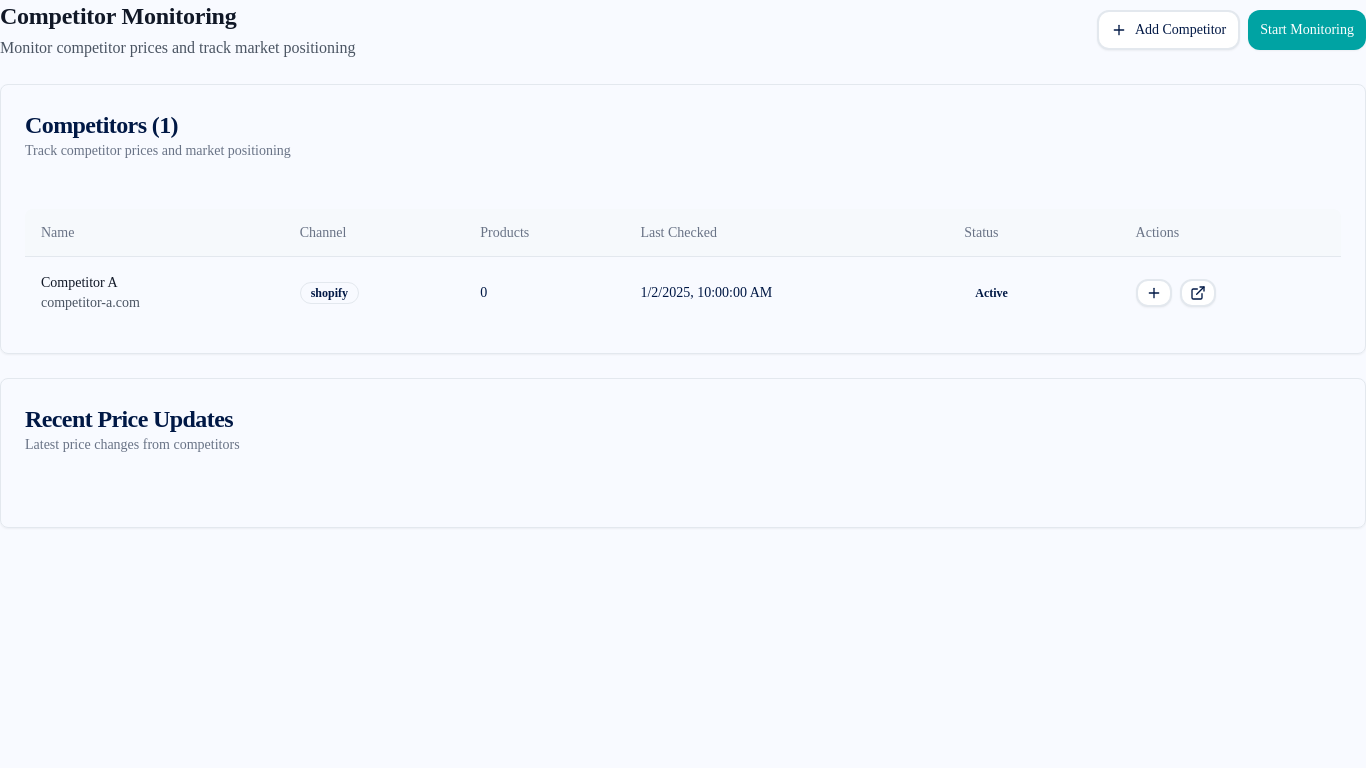
it: CompetitorMonitor › should open add product modal when product button clicked
Expected: the text "Competitor A" is shown, [41,275,118,290]
Click the 1st button titled "Add product to track" at (1154, 293), box [1136,279,1172,307]
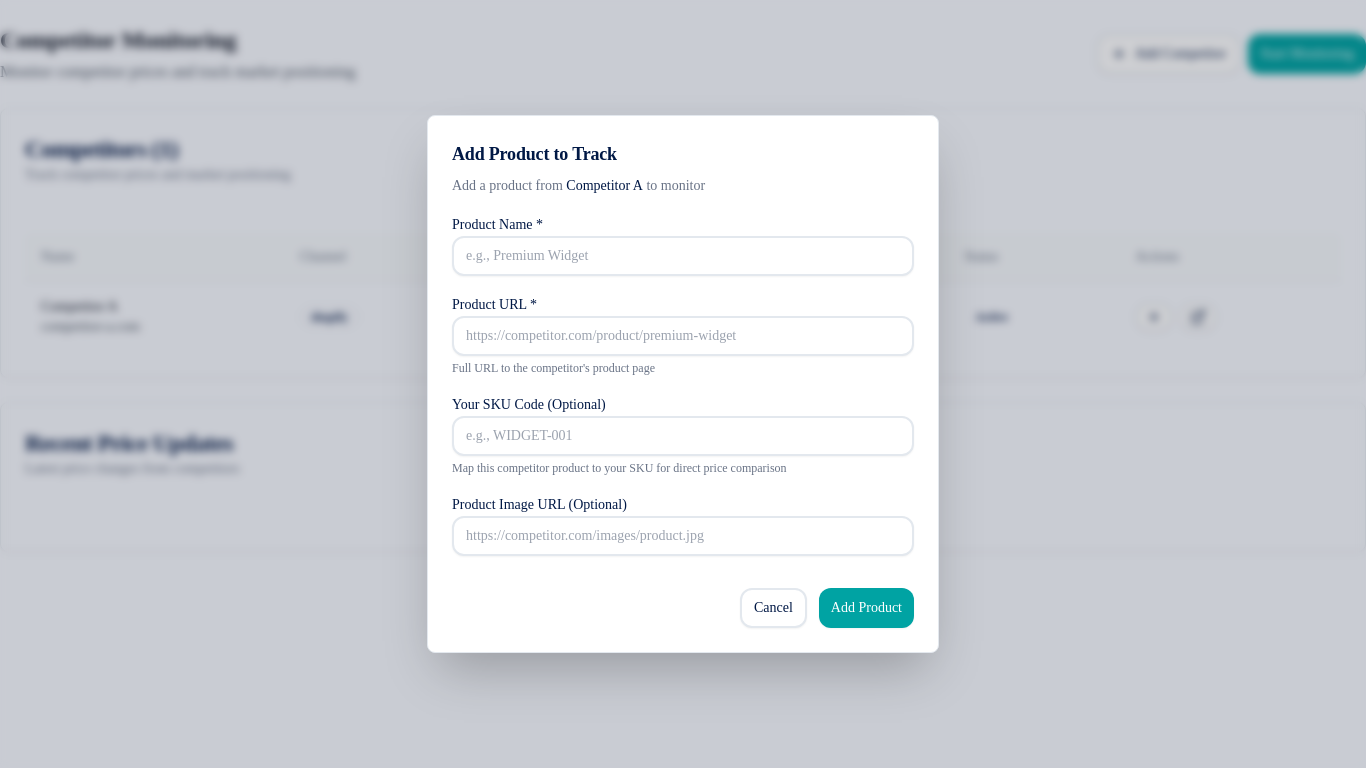
Now the heading "Add Product to Track" is shown, box [452,144,617,164]
Now the field labelled "Product Name *" is shown, box [452,236,914,276]
